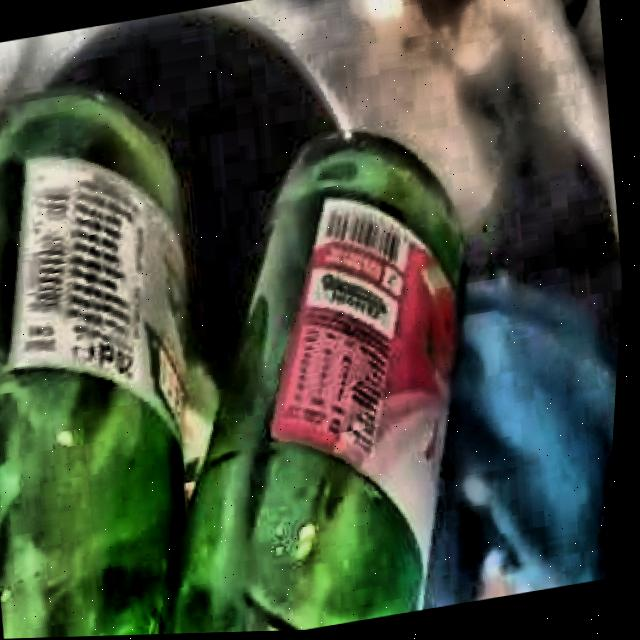glass: (0, 87, 463, 639)
